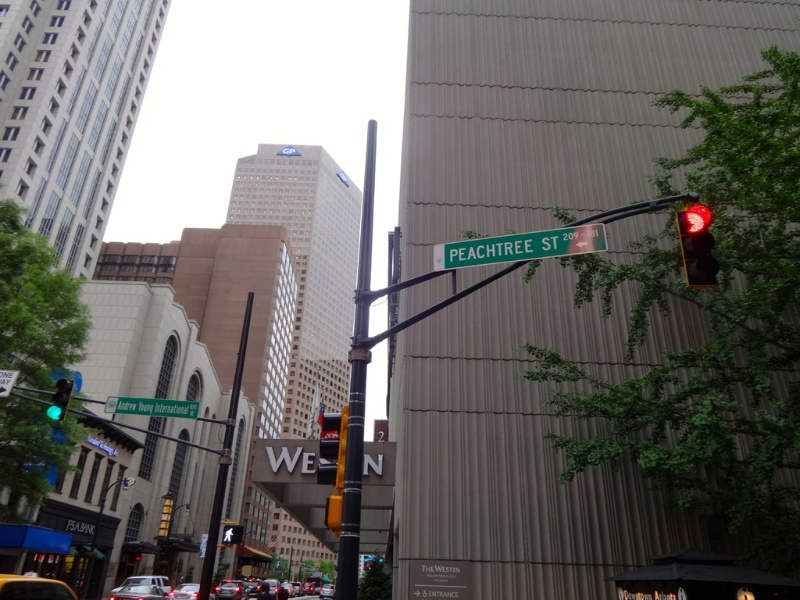green_light: (39, 381, 70, 438)
red_light: (662, 192, 728, 284)
